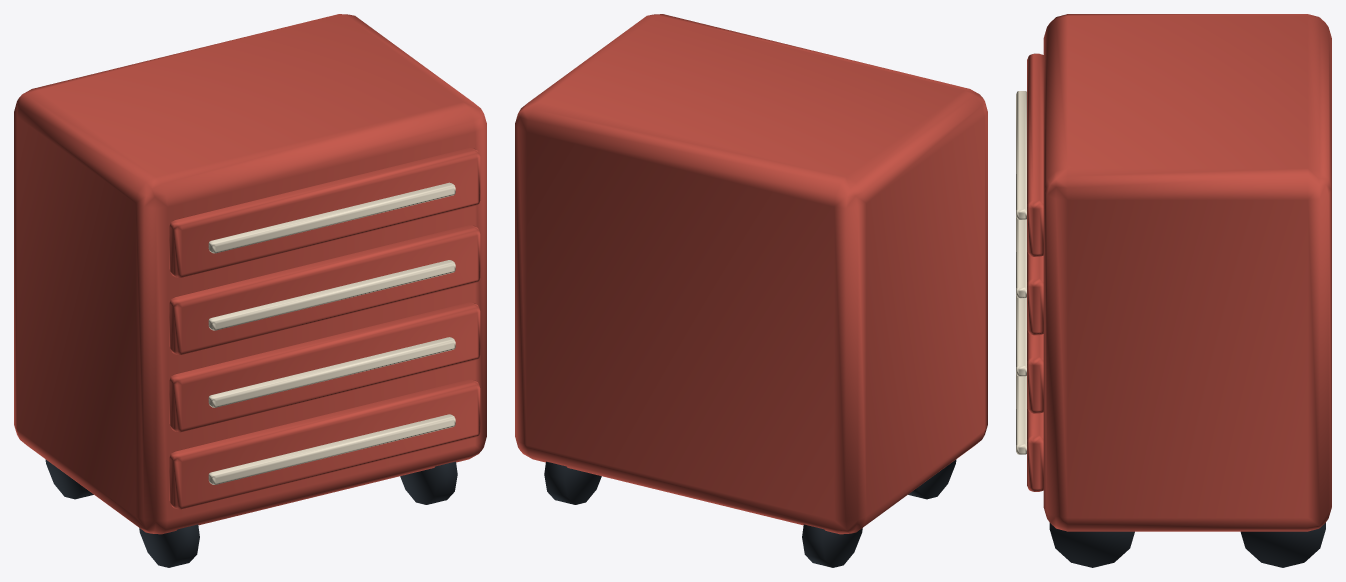
File: workshop-tool-chest.glb
3 renders of one model, left to right at view 1: azimuth 30°, elevation 25°; view 2: azimuth 150°, elevation 25°; view 3: azimuth 270°, elevation 25°, orthographic.
Parts seen in each view (by area): view 1: interior_2_red.001, interior_2_ivory, interior_2_dark; view 2: interior_2_red.001, interior_2_dark; view 3: interior_2_red.001, interior_2_dark, interior_2_ivory.
Part boxes in pixels (x1=…): interior_2_red.001: x1=14, y1=14, x2=486, y2=534; interior_2_ivory: x1=208, y1=182, x2=455, y2=484; interior_2_dark: x1=45, y1=459, x2=457, y2=567; interior_2_red.001: x1=515, y1=14, x2=987, y2=534; interior_2_dark: x1=544, y1=459, x2=956, y2=567; interior_2_red.001: x1=1027, y1=14, x2=1331, y2=531; interior_2_dark: x1=1049, y1=523, x2=1325, y2=567; interior_2_ivory: x1=1016, y1=91, x2=1026, y2=454.
Size of the model in its own units: 0.85 by 0.935 by 0.6575.
